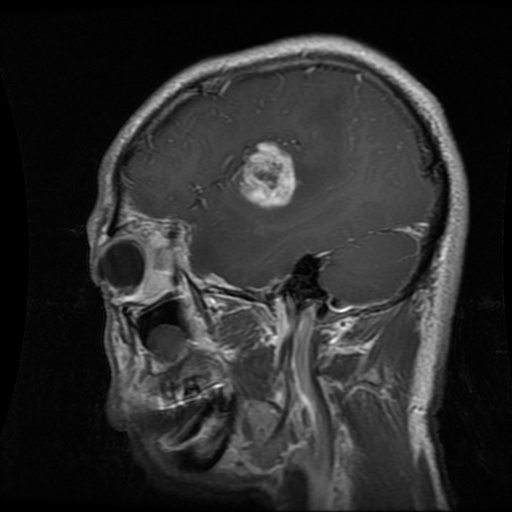glioma: (240, 141, 293, 205)
